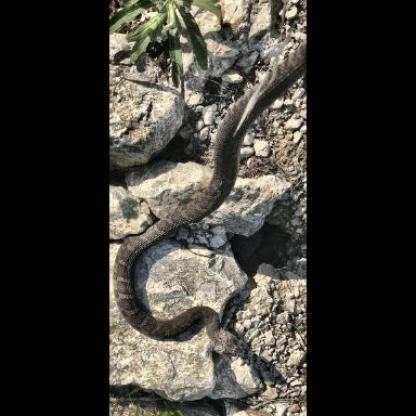Snake: (120, 0, 285, 405)
